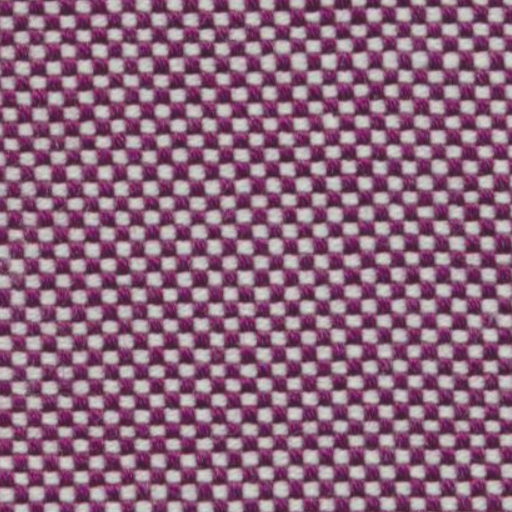TuoSha: (28, 42, 500, 90)
